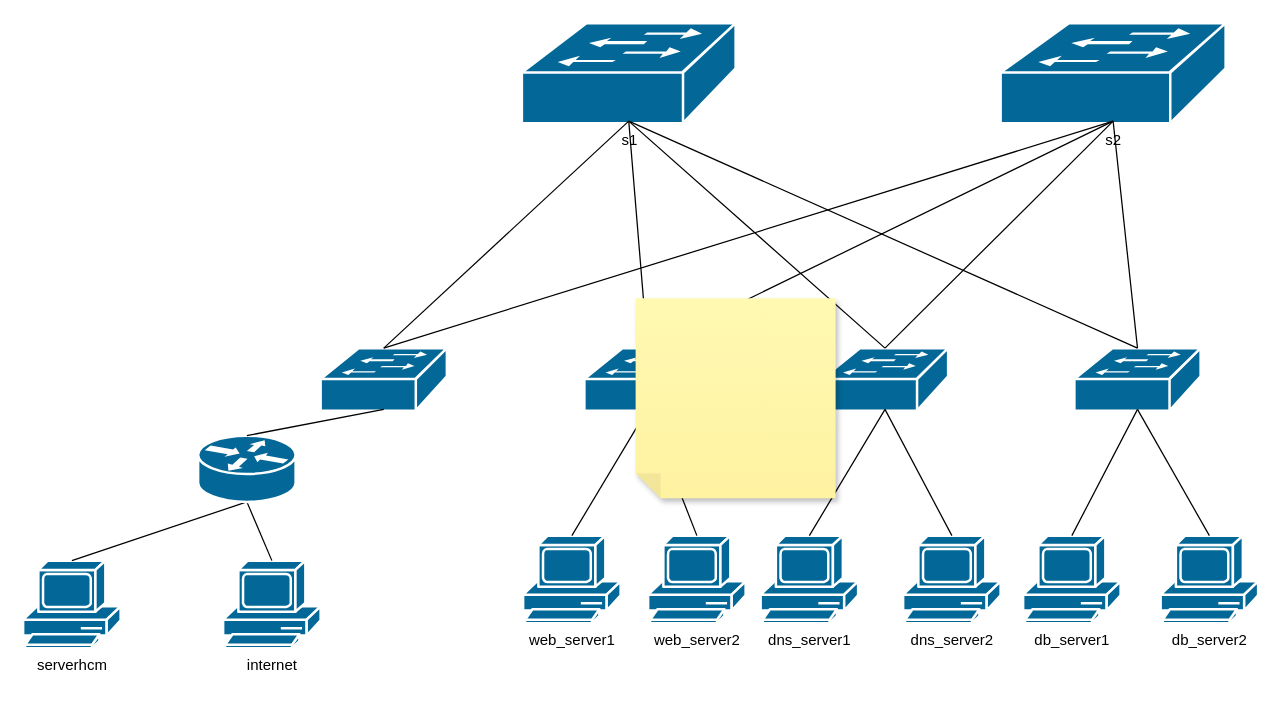
This 1280x714 diagram has some shape labels left out. Here are the shapes that lost their labels. From the top down, the centre of each, then its label:
pixel 383 378: s7
pixel 884 378: s4
pixel 1136 378: s5
pixel 246 468: r1
